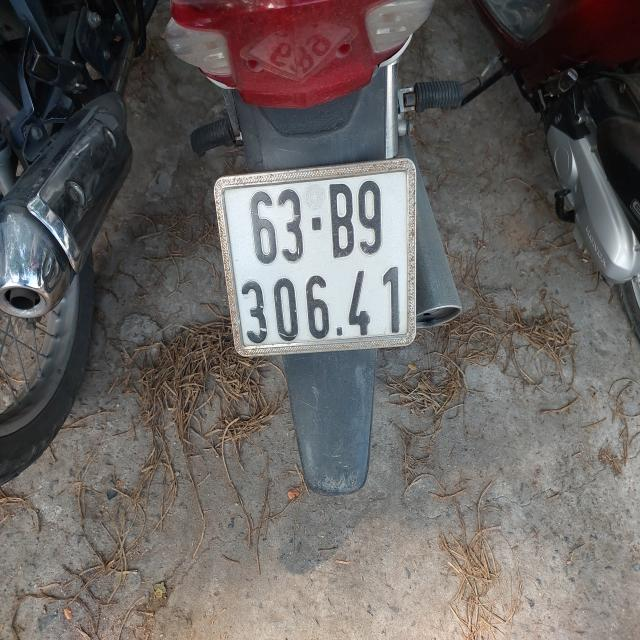0: (273, 277, 299, 341)
1: (381, 267, 402, 337)
3: (277, 188, 305, 262), (240, 278, 266, 344)
4: (349, 269, 372, 335)
6: (250, 190, 278, 268), (306, 276, 330, 342)
9: (357, 176, 383, 256)
B: (328, 181, 356, 259)
